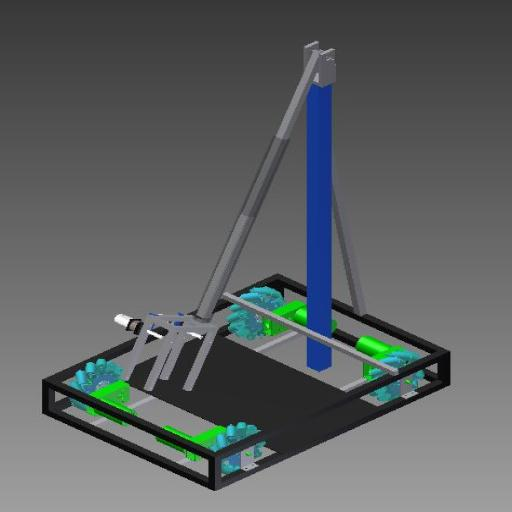robot: (40, 40, 451, 486)
